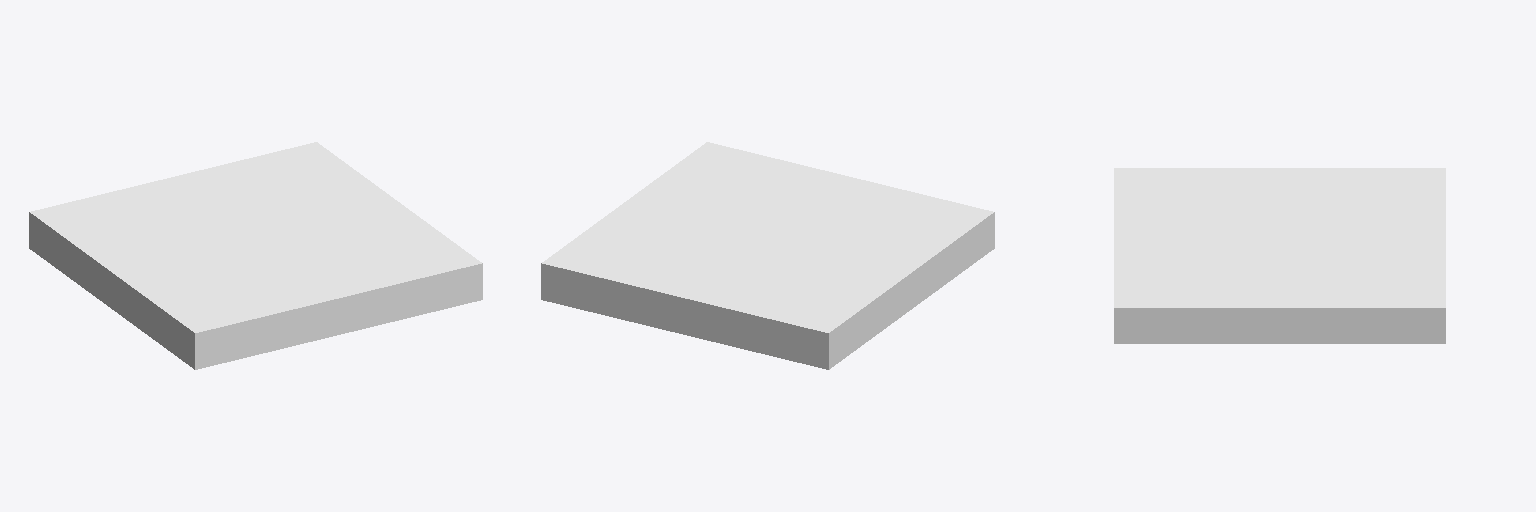
Rendered from rail_giro.obj.
3 renders of one model, left to right at view 1: azimuth 30°, elevation 25°; view 2: azimuth 150°, elevation 25°; view 3: azimuth 270°, elevation 25°, orthographic.
Visible parts, largest first — view 1: rail_giro; view 2: rail_giro; view 3: rail_giro.
Part boxes in pixels (x1,y1,x2,y2): rail_giro: (29, 142, 482, 369); rail_giro: (541, 142, 994, 369); rail_giro: (1114, 168, 1445, 343).
Bounding box in the file's own units: 41 × 5 × 41.